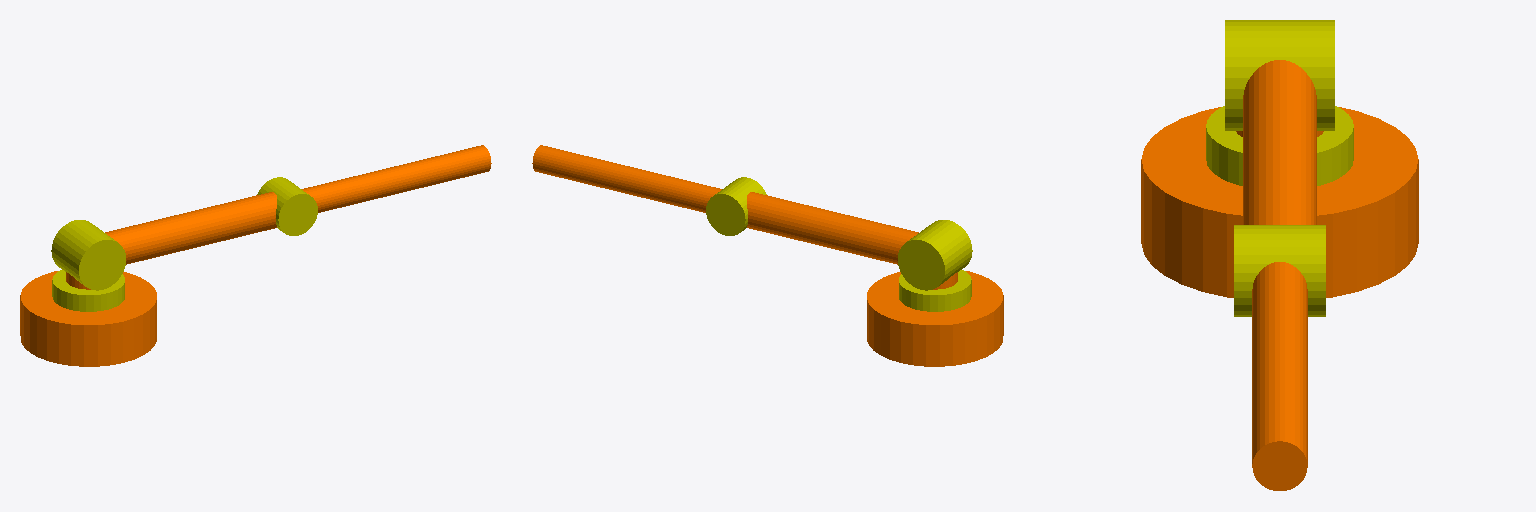
robot.urdf — rrr_manipulator:
<?xml version="1.0"?>
<robot name="rrr_manipulator">

  <link name="base_link">
    <inertial>
      <origin xyz="0 0 0" rpy="0 0 0"/>
      <mass value="0.001"/>
      <inertia ixx="0.001" ixy="0.0" ixz="0.0" iyy="0.001" iyz="0.0" izz="0.001"/>
    </inertial>
    <visual>
      <origin xyz="0 0 0.05" rpy="0 0 0"/>
      <geometry>
        <cylinder length="0.1" radius="0.15"/>
      </geometry>
      <material name="orange">
        <color rgba="1.0 0.5 0.0 0.5"/>
      </material>
    </visual>
  </link>

  <joint name="joint1" type="revolute">
    <parent link="base_link"/>
    <child link="link1"/>
    <origin xyz="0 0 0.1" rpy="0 0 0"/>
    <axis xyz="0 0 1"/>
    <limit lower="-3.1415" upper="3.1415" effort="10.0" velocity="1.0"/>
  </joint>

  <link name="link1">
    <inertial>
      <origin xyz="0 0 0" rpy="0 0 0"/>
      <mass value="0.001"/>
      <inertia ixx="0.001" ixy="0.0" ixz="0.0" iyy="0.001" iyz="0.0" izz="0.001"/>
    </inertial>
    <visual>
      <origin xyz="0 0 0" rpy="0 0 0"/>
      <geometry>
        <cylinder length="0.08" radius="0.08"/>
      </geometry>
      <material name="yellow">
        <color rgba="0.8 0.8 0 0.5"/>
      </material>
    </visual>
    
    <visual>
      <origin xyz="0 0 0.05" rpy="0 0 0"/>
      <geometry>
        <cylinder length="0.1" radius="0.05"/>
      </geometry>
      <material name="orange">
        <color rgba="1.0 0.5 0.0 0.5"/>
      </material>
    </visual>
  </link>

  <joint name="joint2" type="revolute">
    <parent link="link1"/>
    <child link="link2"/>
    <origin xyz="0 0 0.1" rpy="0 0 0"/>
    <axis xyz="0 1 0"/>
    <limit lower="-3.1416" upper="0.0" effort="10" velocity="3"/>
  </joint>

  <link name="link2">
    <inertial>
      <origin xyz="0 0 0" rpy="0 0 0"/>
      <mass value="0.001"/>
      <inertia ixx="0.001" ixy="0.0" ixz="0.0" iyy="0.001" iyz="0.0" izz="0.001"/>
    </inertial>
    <visual>
      <origin xyz="0 0 0" rpy="1.5708 0 0"/>
      <geometry>
        <cylinder length="0.12" radius="0.06"/>
      </geometry>
      <material name="yellow">
        <color rgba="0.8 0.8 0 0.5"/>
      </material>
    </visual>

    <visual>
      <origin xyz="0.25 0 0" rpy="0 1.5708 0"/>
      <geometry>
        <cylinder length="0.5" radius="0.04"/>
      </geometry>
      <material name="orange">
        <color rgba="1.0 0.5 0.0 0.5"/>
      </material>
    </visual>
  </link>

  <joint name="joint3" type="revolute">
    <parent link="link2"/>
    <child link="link3"/>
    <origin xyz="0.5 0 0" rpy="0 0 0"/>
    <axis xyz="0 1 0"/>
    <limit lower="-2.966" upper="2.966" effort="10" velocity="3"/>
  </joint>

  <link name="link3">
    <inertial>
      <origin xyz="0 0 0" rpy="0 0 0"/>
      <mass value="0.001"/>
      <inertia ixx="0.001" ixy="0.0" ixz="0.0" iyy="0.001" iyz="0.0" izz="0.001"/>
    </inertial>
    <visual>
      <origin xyz="0 0 0" rpy="1.5708 0 0"/>
      <geometry>
        <cylinder length="0.1" radius="0.05"/>
      </geometry>
      <material name="yellow">
        <color rgba="0.8 0.8 0 0.5"/>
      </material>
    </visual>

    <visual>
      <origin xyz="0.25 0 0" rpy="0 1.5708 0"/>
      <geometry>
        <cylinder length="0.5" radius="0.03"/>
      </geometry>
      <material name="orange">
        <color rgba="1.0 0.5 0.0 0.5"/>
      </material>
    </visual>
  </link>

  <joint name="ee_fixed_joint" type="fixed">
    <parent link="link3"/>
    <child link="ee_link"/>
    <origin xyz="0.5 0 0" rpy="0 0 0"/>
  </joint>

  <link name="ee_link">
    <inertial>
      <origin xyz="0 0 0" rpy="0 0 0"/>
      <mass value="0.001"/>
      <inertia ixx="0.001" ixy="0.0" ixz="0.0" iyy="0.001" iyz="0.0" izz="0.001"/>
    </inertial>
  </link>

</robot>

--- What the picture shows (computed from the rendered views, not written in the file) ---
3 views of the same robot in one strip: view 1: azimuth 30°, elevation 25°; view 2: azimuth 150°, elevation 25°; view 3: azimuth 270°, elevation 25° (orthographic).
Robot: rrr_manipulator — 5 links, 4 joints (3 revolute, 1 fixed); root link base_link; default pose: all joints at 0.
Visible links, largest first — view 1: link2, base_link, link3, link1; view 2: link2, base_link, link3, link1; view 3: base_link, link2, link3, link1.
Link boxes in pixels (left/top/right/bottom): link2: left=51, top=192, right=276, bottom=290; base_link: left=20, top=271, right=156, bottom=366; link3: left=257, top=145, right=491, bottom=235; link1: left=52, top=270, right=124, bottom=311; link2: left=747, top=192, right=972, bottom=290; base_link: left=867, top=271, right=1003, bottom=366; link3: left=532, top=145, right=766, bottom=235; link1: left=899, top=270, right=971, bottom=311; base_link: left=1141, top=107, right=1418, bottom=297; link2: left=1225, top=20, right=1334, bottom=224; link3: left=1234, top=225, right=1325, bottom=490; link1: left=1206, top=106, right=1353, bottom=185.
Size in the robot's own frame: 1.15 by 0.3 by 0.26 metres.
Geometry: primitives only (box / cylinder / sphere), no mesh files.
